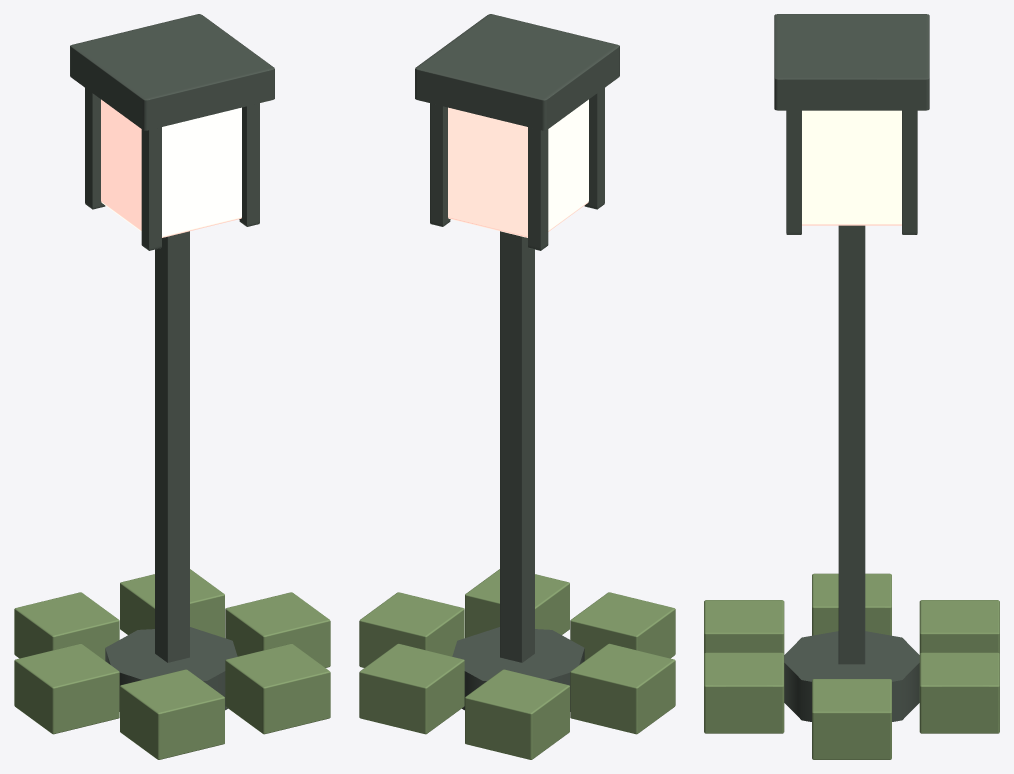
File: gardenlamp-3.glb
The picture shows the model from 3 angles, left to right: view 1: azimuth 30°, elevation 25°; view 2: azimuth 150°, elevation 25°; view 3: azimuth 270°, elevation 25°; orthographic projection. The views are drawn at different scales.
Parts seen in each view (by area): view 1: gardenlamp-3-0; view 2: gardenlamp-3-0; view 3: gardenlamp-3-0.
Part boxes in pixels (x1,y1,x2,y2): gardenlamp-3-0: (14, 14, 330, 759); gardenlamp-3-0: (359, 14, 675, 759); gardenlamp-3-0: (704, 14, 999, 759).
Size of the model in its own units: 0.74 by 1.62 by 0.665.
